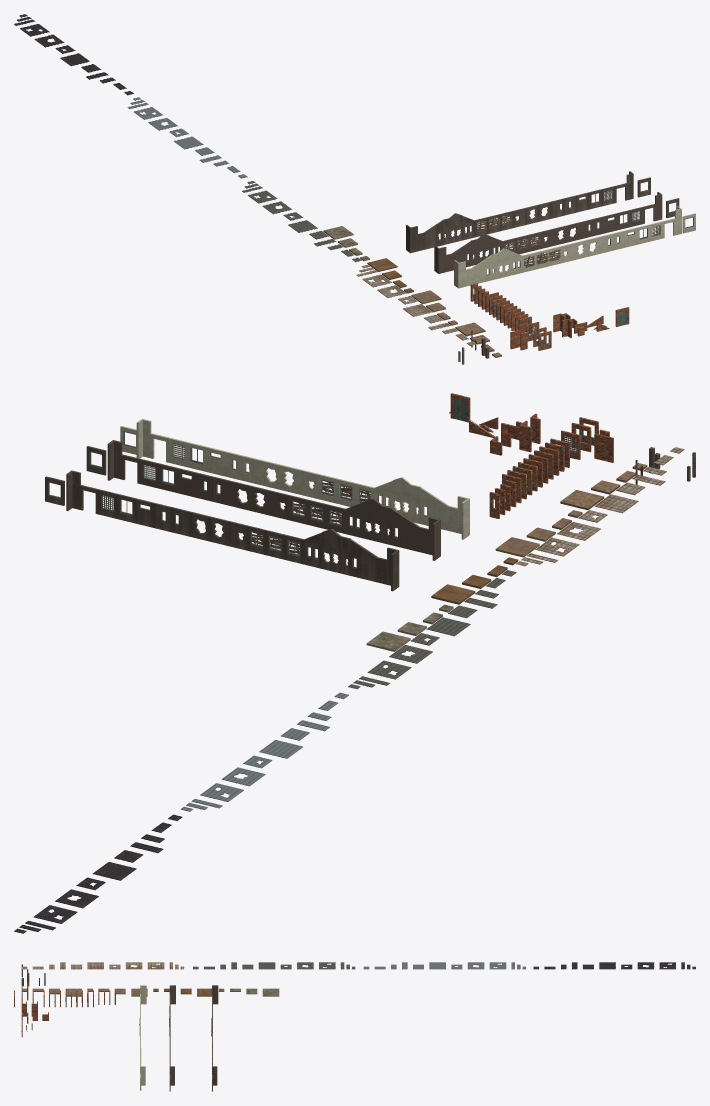
The model's file is buidlings3.fbx.
3 views of the same model, one above another, from view 1: azimuth 30°, elevation 25°; view 2: azimuth 150°, elevation 25°; view 3: azimuth 270°, elevation 25° (orthographic). The views are drawn at different scales.
Size of the model in its own units: 5051 by 445 by 12447.
